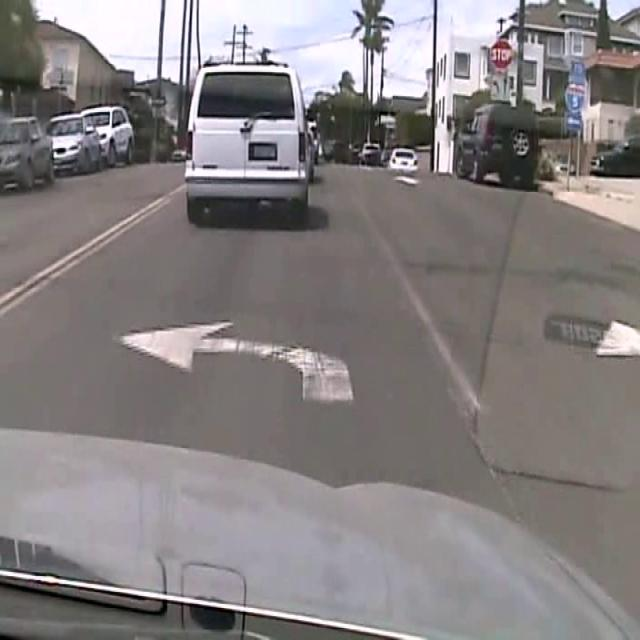stop: (489, 38, 514, 70)
